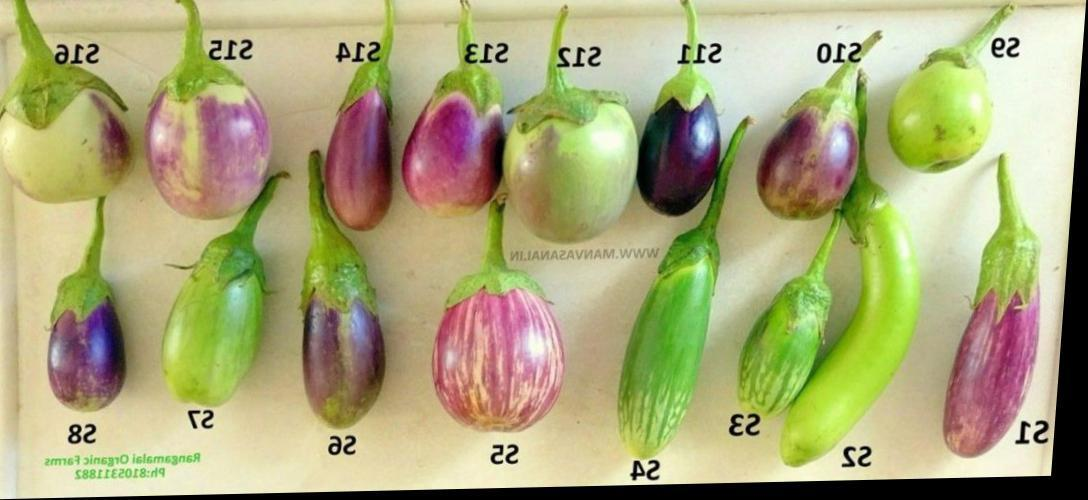eggplant: (746, 188, 932, 434), (595, 192, 754, 460), (429, 209, 583, 436), (942, 180, 1074, 427), (156, 184, 293, 412), (0, 0, 119, 209), (506, 68, 639, 250), (143, 64, 283, 232), (294, 224, 404, 428), (753, 57, 870, 226), (876, 19, 997, 182), (46, 211, 132, 416), (312, 56, 408, 238), (626, 66, 731, 228), (399, 64, 510, 217)
